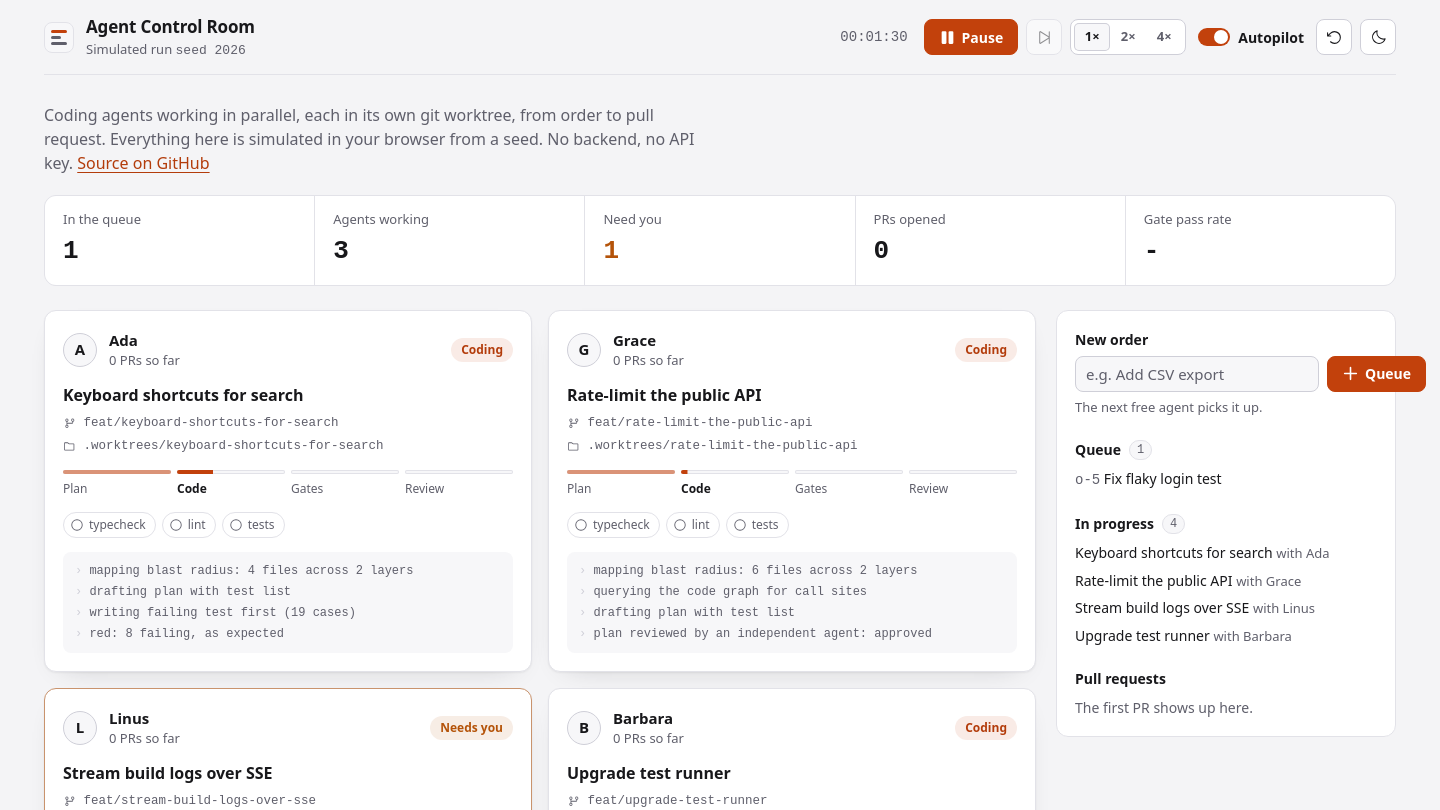
Scenario: App › queues a new order from the form
Click the button "Pause": (971, 37) [924,19,1018,55]
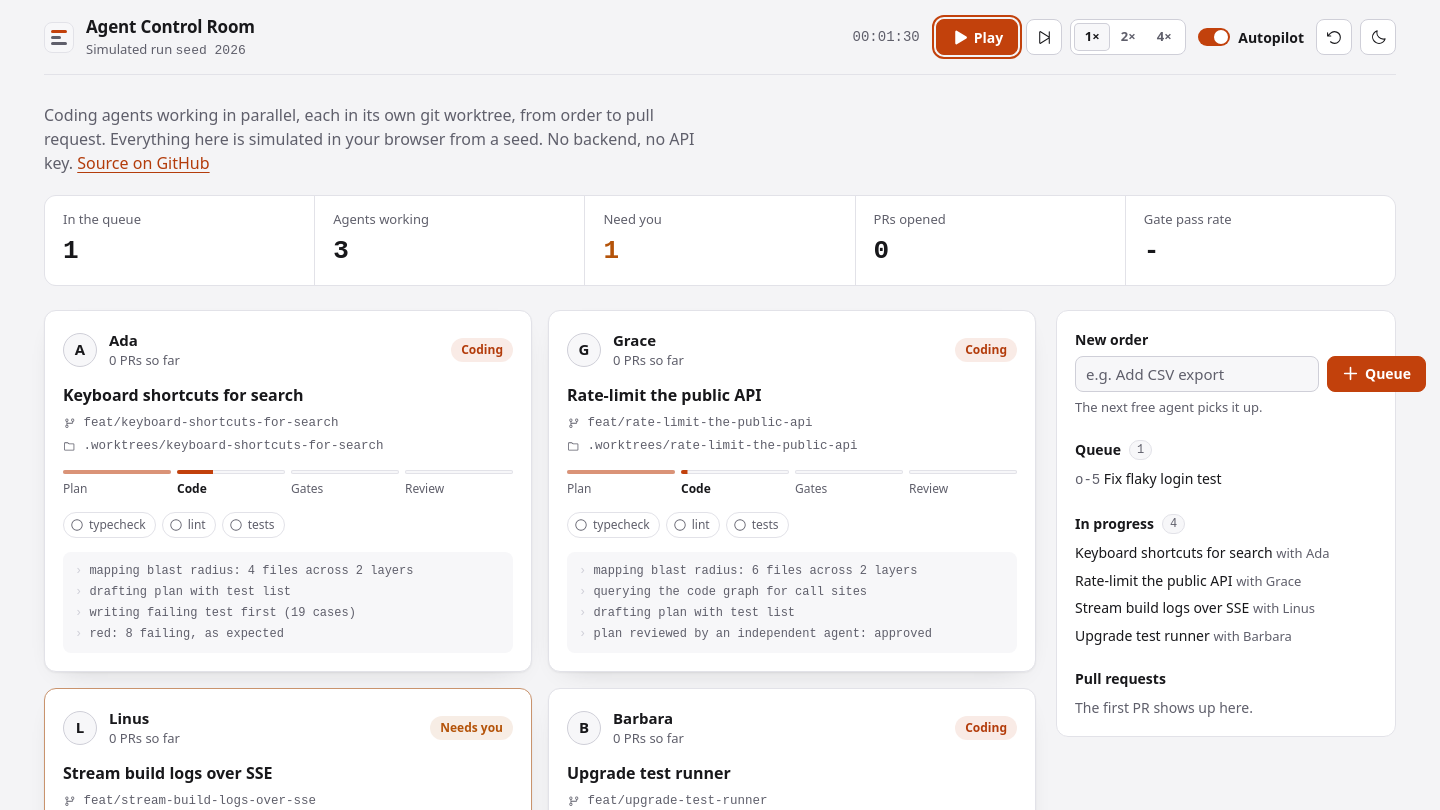
In the field labelled "New order": (1197, 374) [1075,356,1319,392], type "Ship the changelog page"
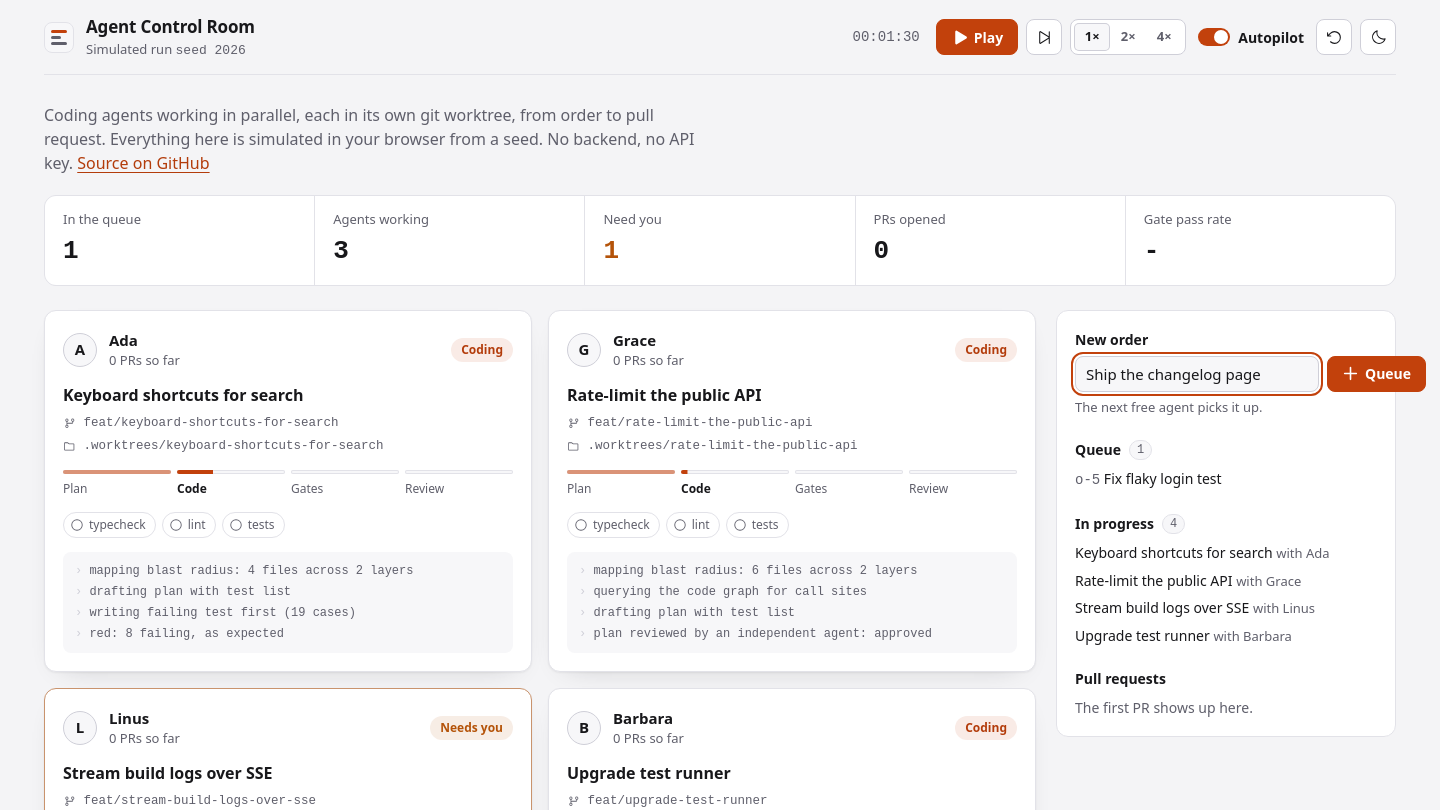
Click the button "Queue": (1377, 374) [1327,356,1426,392]
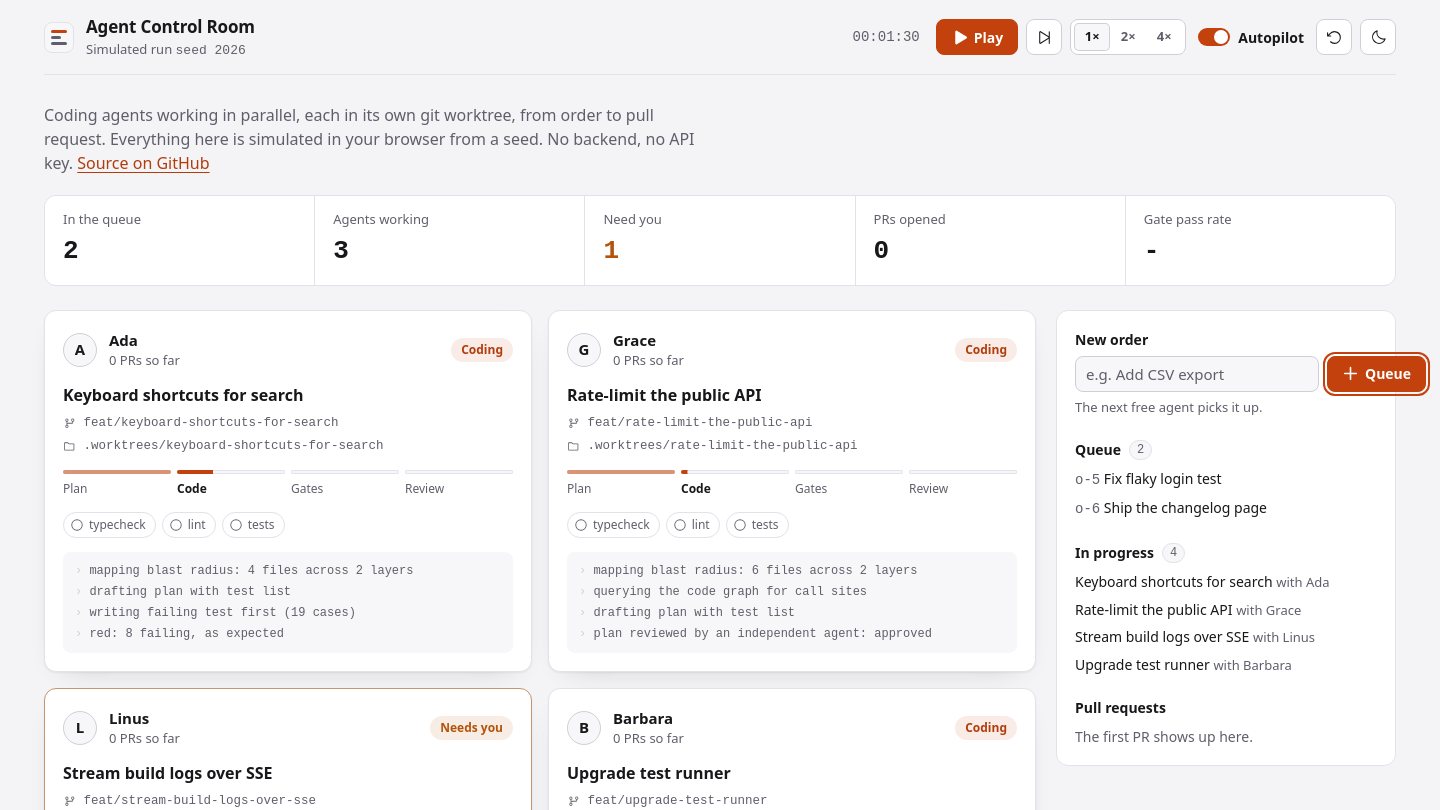
Check: the list item "o-6 Ship the changelog page" is shown, box [1075,498,1267,517]
Check: the field labelled "New order" is empty, box [1075,356,1319,392]
